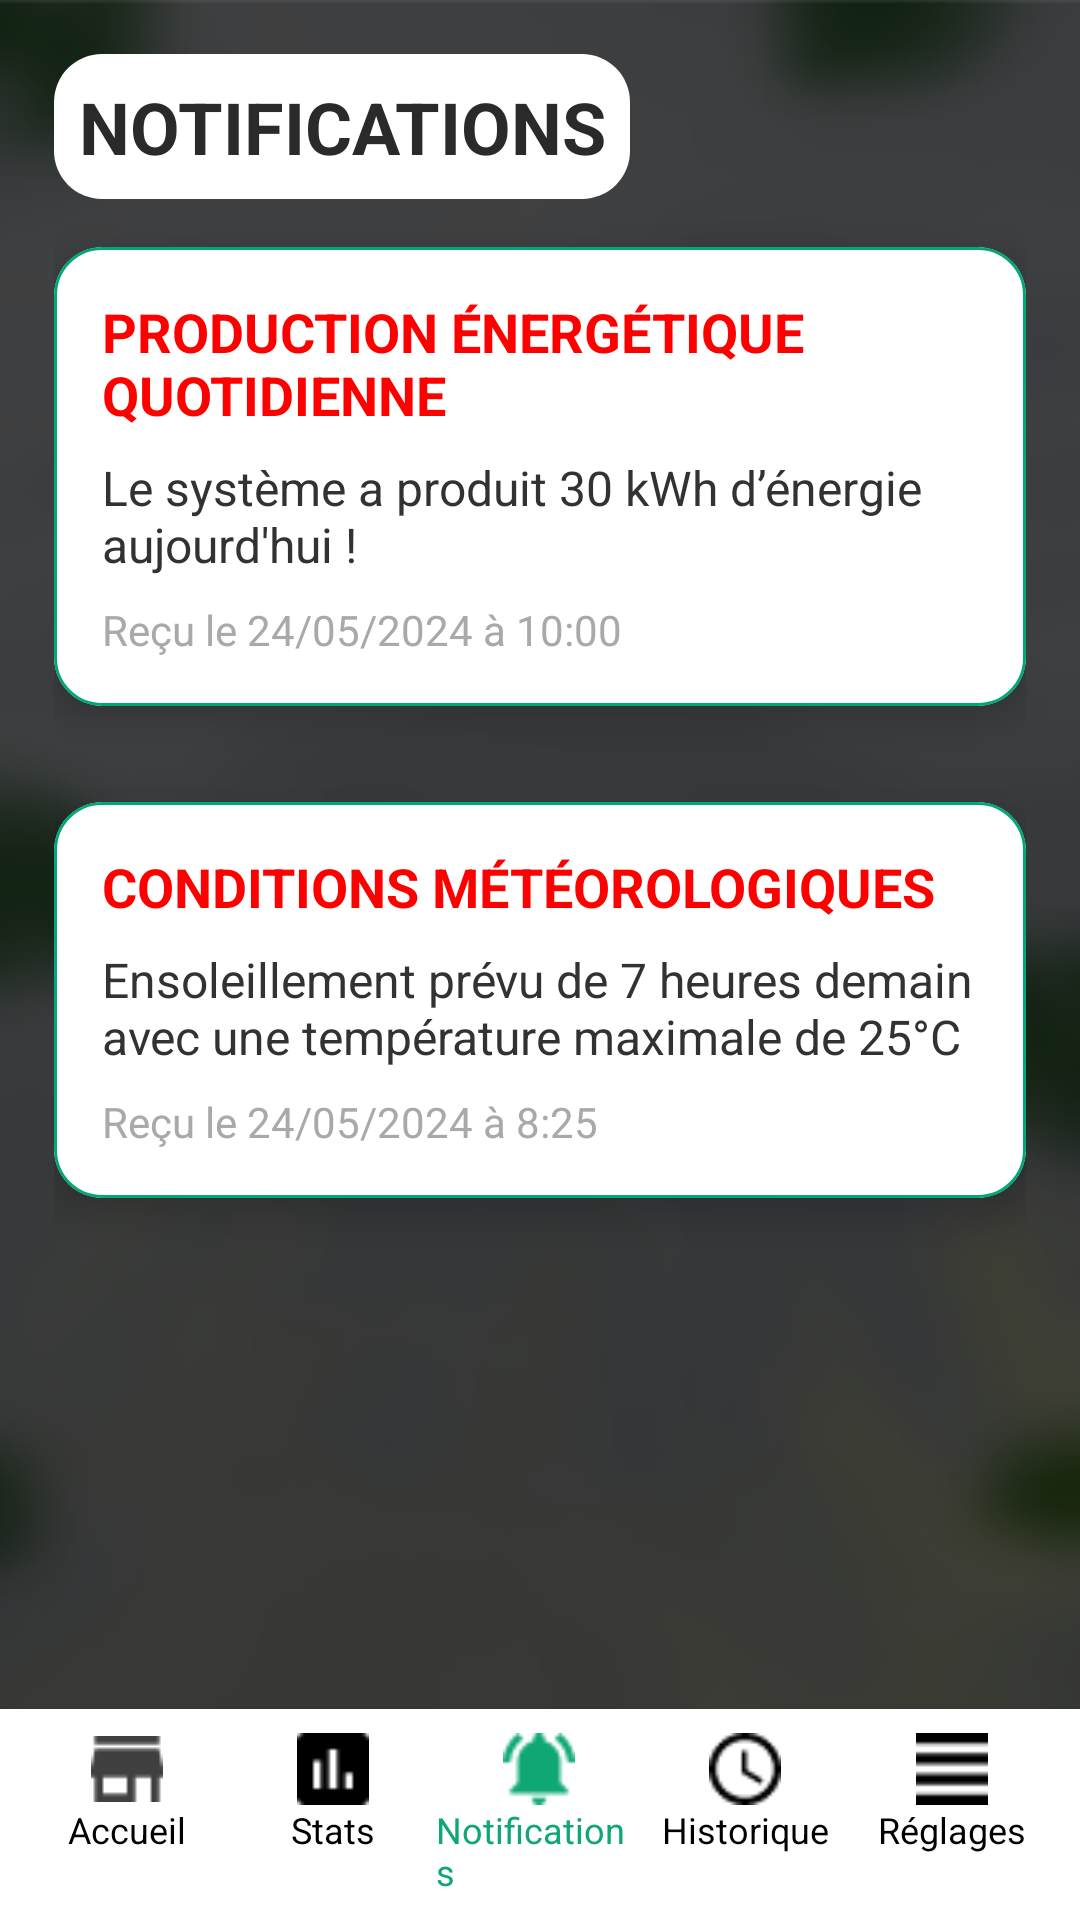

Screen size 1080px x 1920px. Icon name, then its box in pixels as [left=x1, top=y1, right=x2, bottom=y2]:
access time: [left=709, top=1733, right=781, bottom=1805]
assessment: [left=297, top=1733, right=369, bottom=1805]
store mall directory: [left=91, top=1736, right=163, bottom=1802]
view headline: [left=916, top=1733, right=988, bottom=1805]
